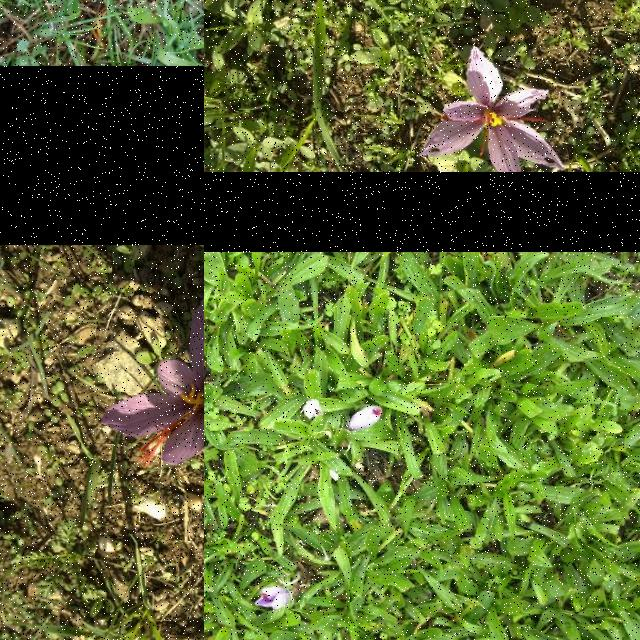flower: (419, 46, 565, 172), (100, 289, 204, 464), (346, 406, 382, 432), (256, 588, 292, 610), (302, 400, 324, 420)
